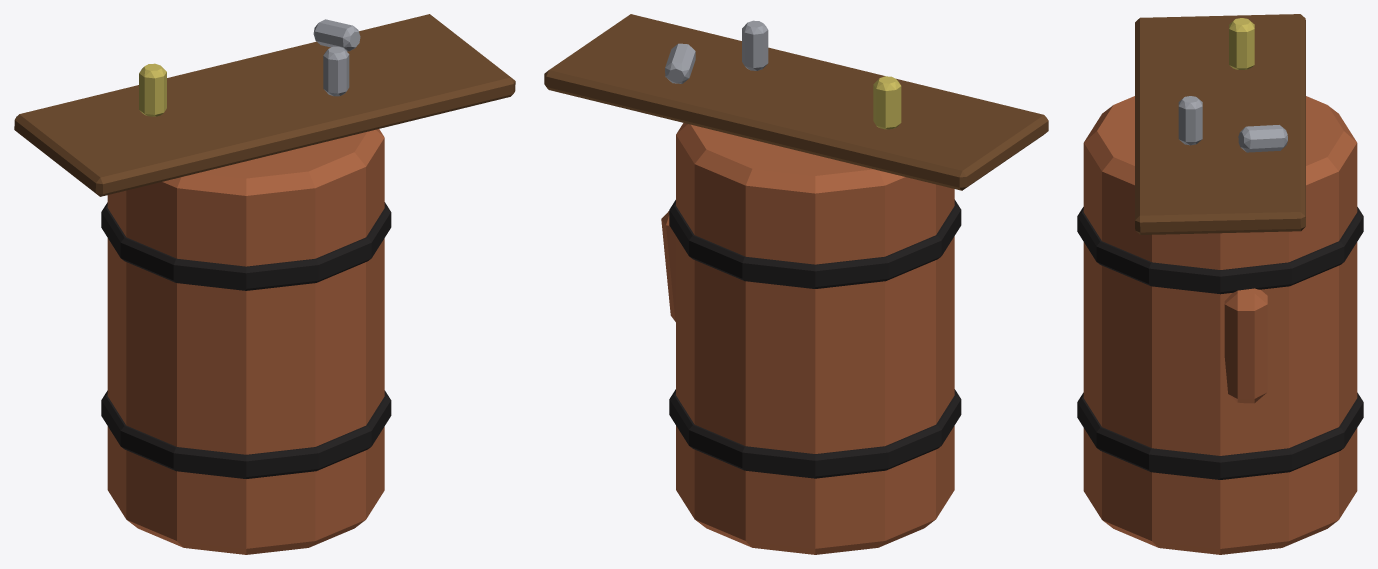
Rendered from park_barrel_table.glb.
3 views of the same model, side by side, from view 1: azimuth 30°, elevation 25°; view 2: azimuth 150°, elevation 25°; view 3: azimuth 270°, elevation 25° (orthographic).
Visible parts, largest first — view 1: park_barrel_table; view 2: park_barrel_table; view 3: park_barrel_table.
Part boxes in pixels (x1=…): park_barrel_table: x1=14, y1=14, x2=515, y2=554; park_barrel_table: x1=544, y1=14, x2=1048, y2=554; park_barrel_table: x1=1077, y1=14, x2=1363, y2=554.
Size of the model in its own units: 1.12 by 1.14 by 0.67.
